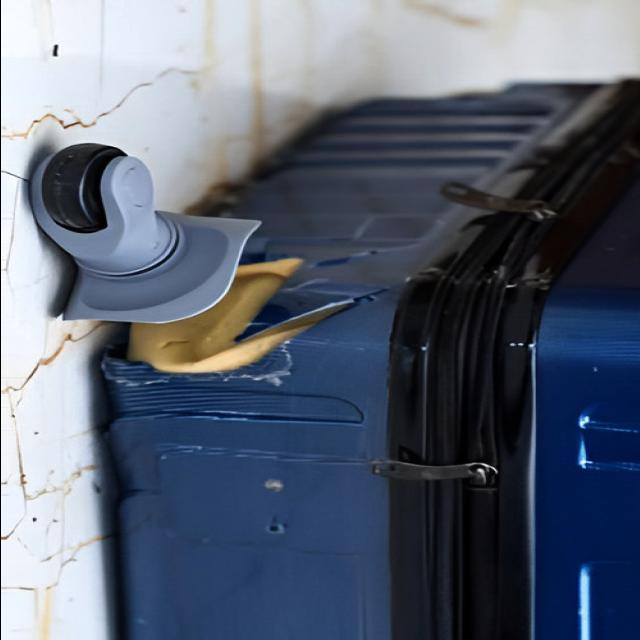Damage-bag: (102, 236, 373, 424), (315, 256, 355, 266), (267, 520, 285, 534), (265, 479, 283, 491)
